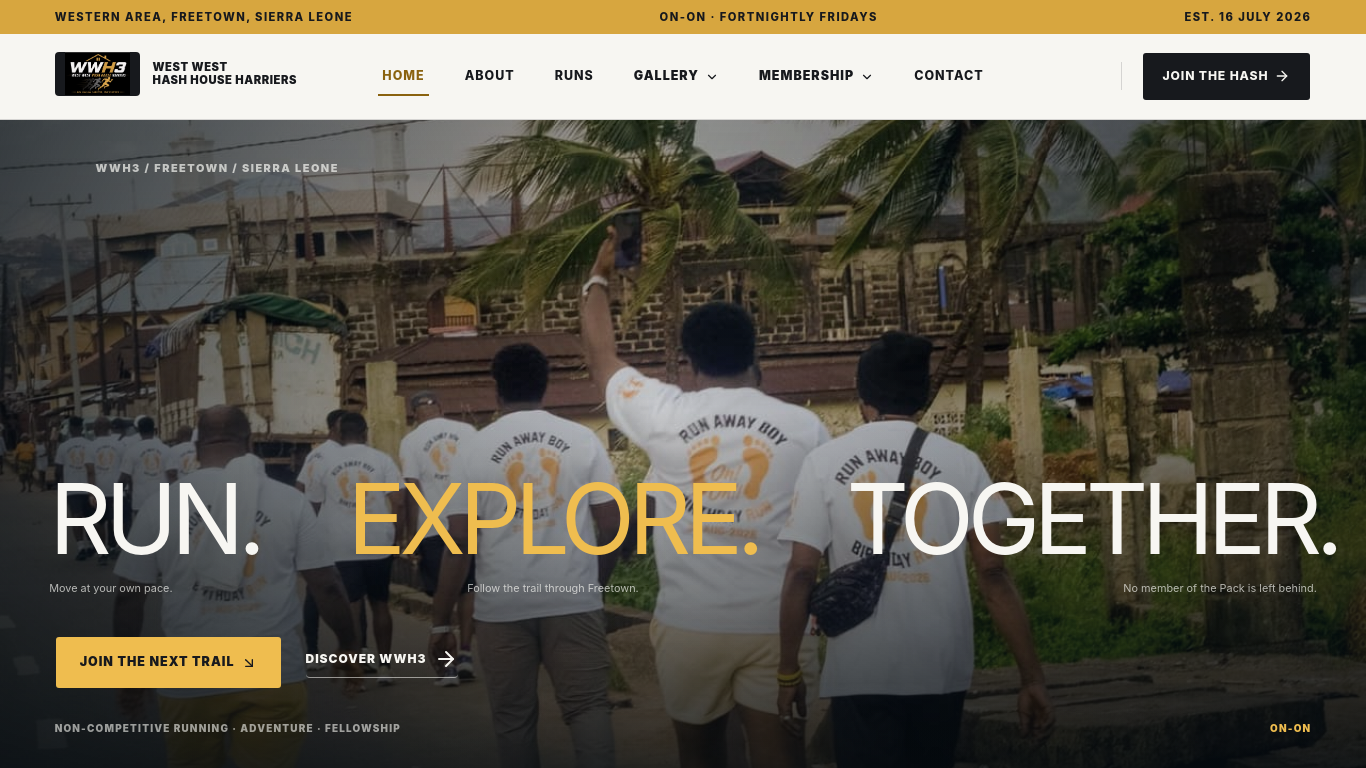
Test case: main navigation › routes to a gallery child page through the dropdown
Click the button "Gallery" at (676, 76), box [630,59,723,94]
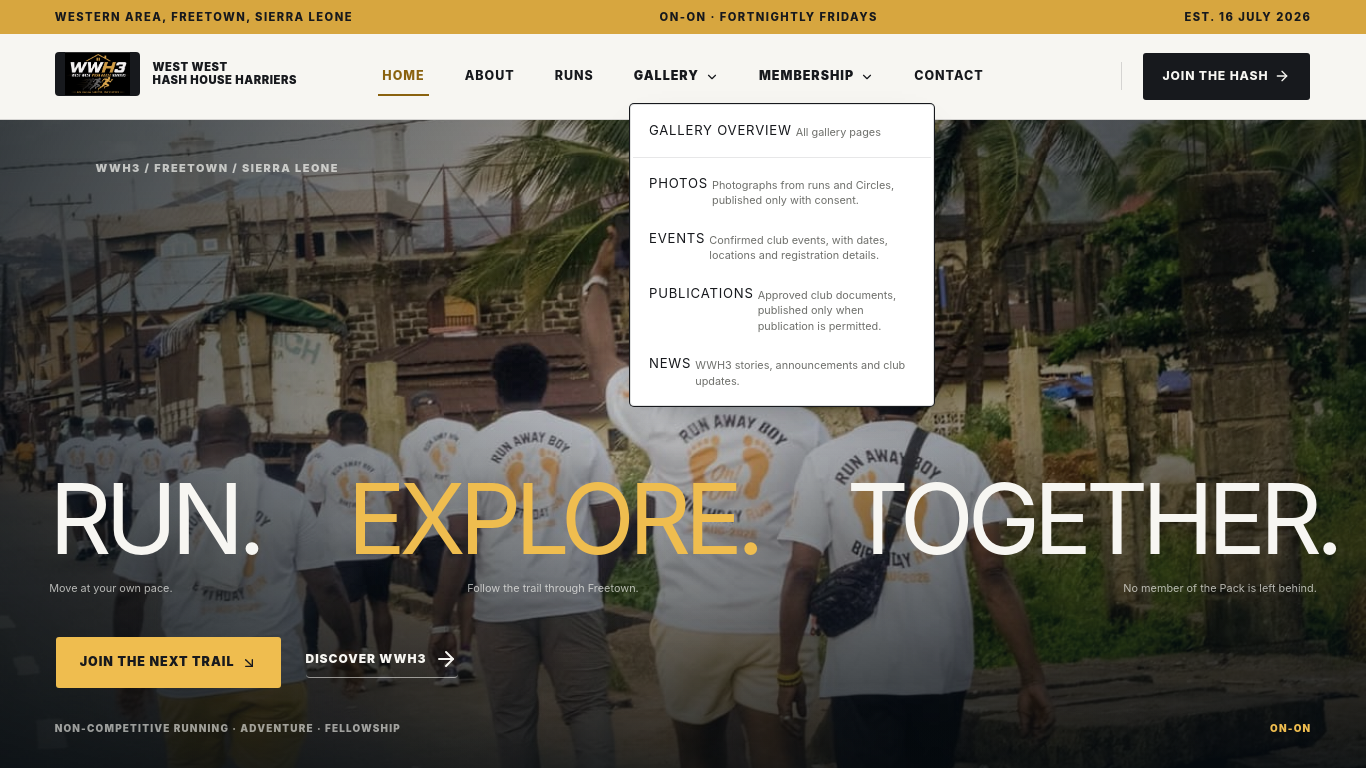
Click the menu item "News WWH3 stories, announcements and club updates." at (777, 372), box [649,355,905,388]
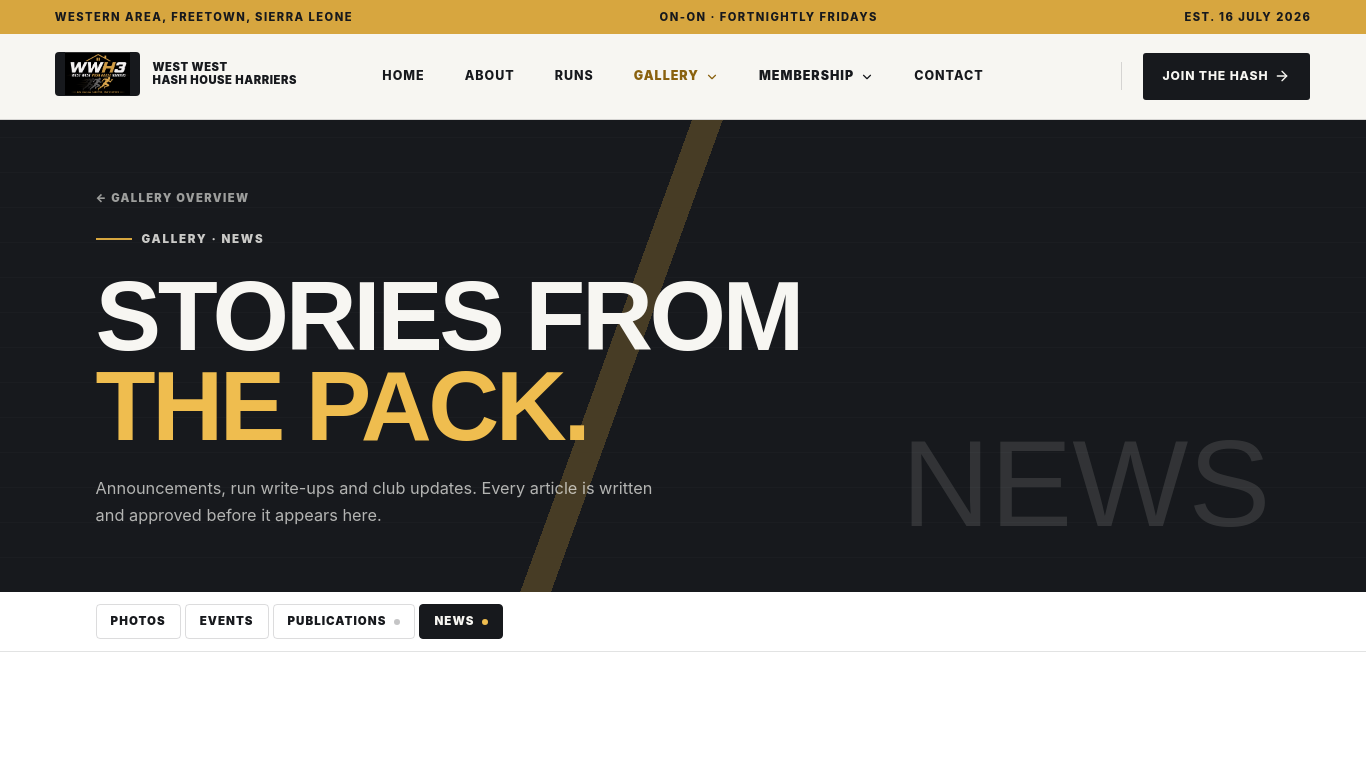
Result: the heading "Stories from" is shown at [96,272,801,451]
